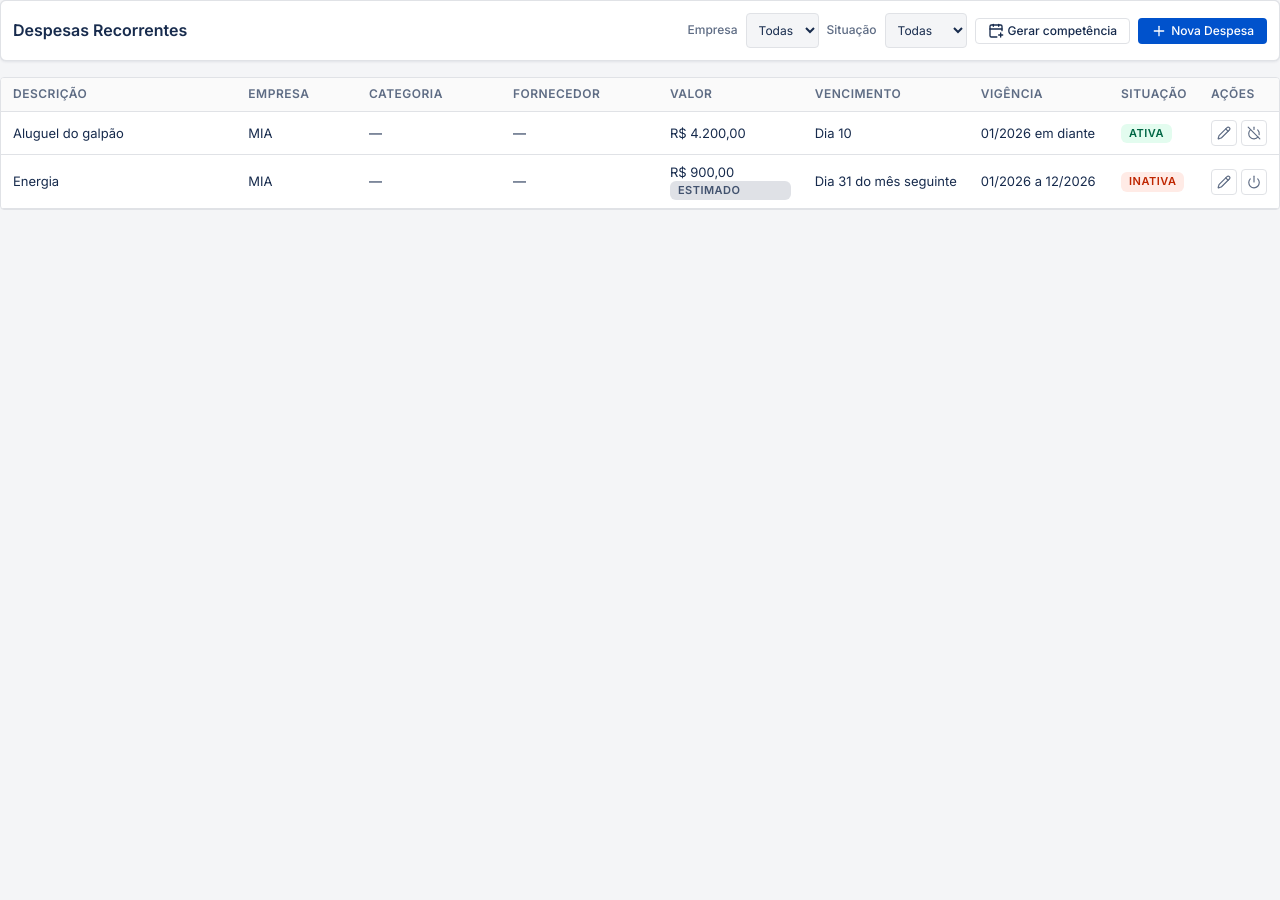
Test: DespesasRecorrentes › gera a competência escolhida e mostra geradas, já existentes e recusadas
The width and height of the screenshot is (1280, 900).
expect the text "Aluguel do galpão" is shown: met, box [1, 111, 236, 154]
Click the button "Gerar competência" at (1052, 30), box [975, 18, 1130, 44]
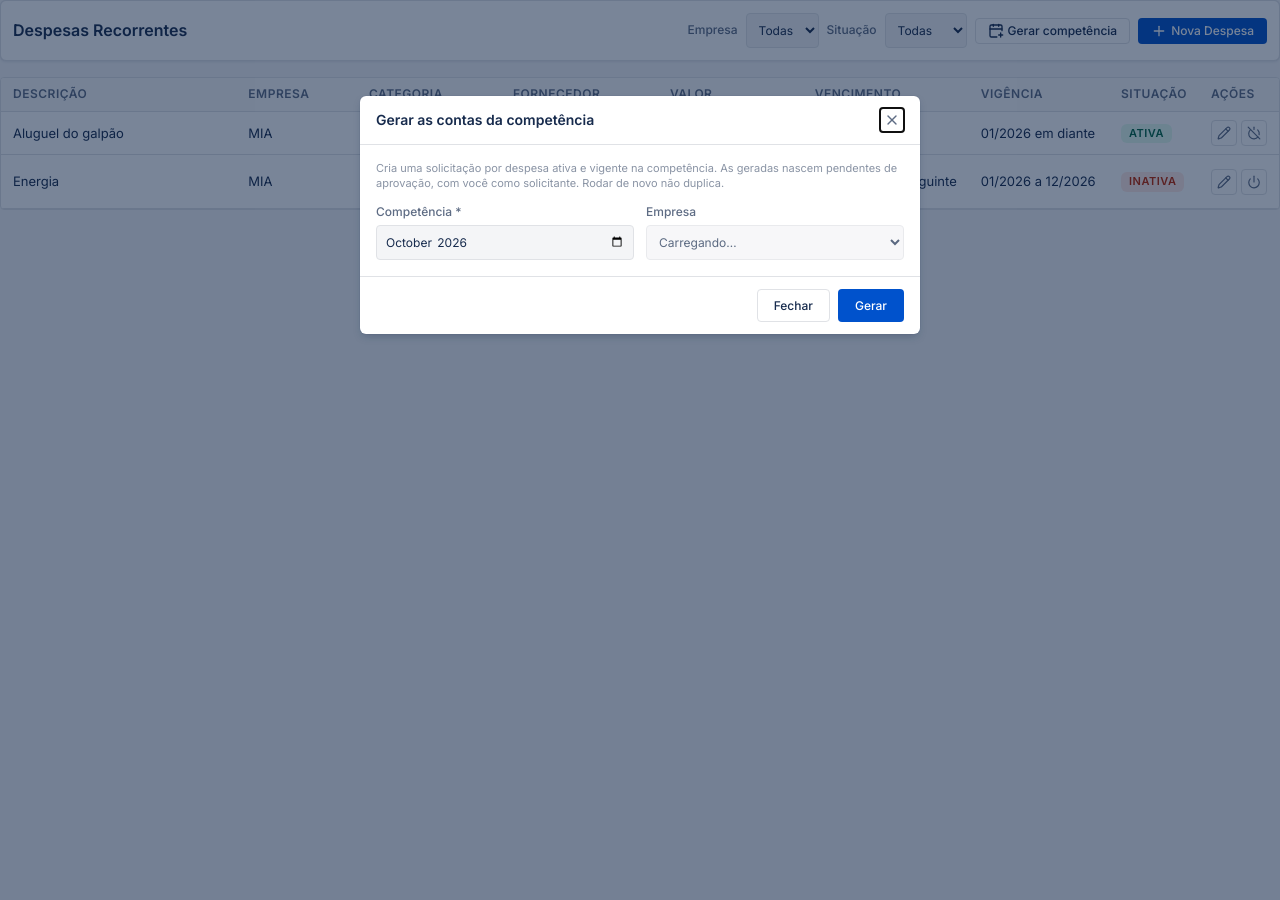
expect the field labelled "Competência *" holds "2026-10": met
Replace the text in the field labelled "Competência *" with "2026-11" at (505, 242), box [376, 225, 634, 260]
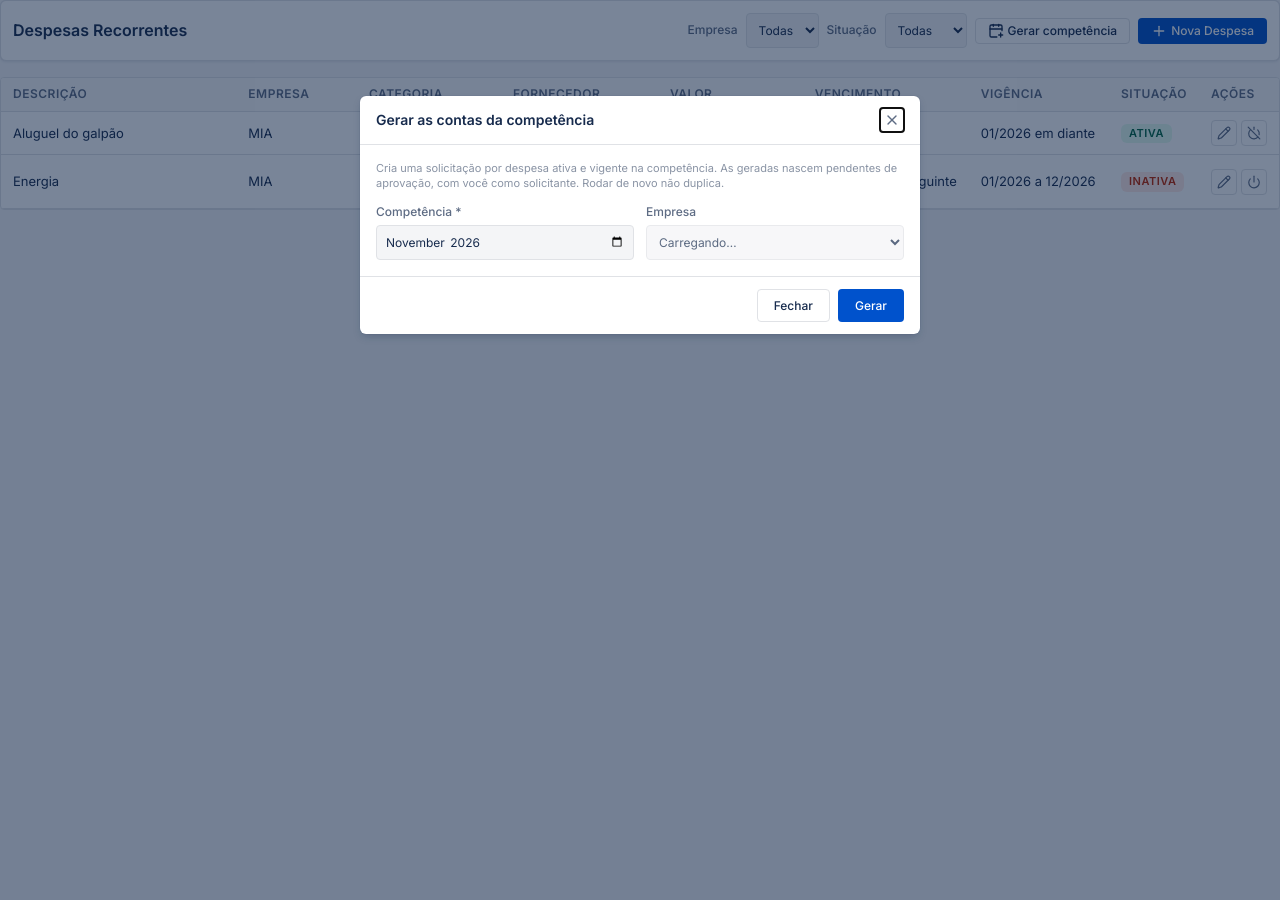
Click the button "Gerar" at (871, 305), box [838, 289, 904, 322]
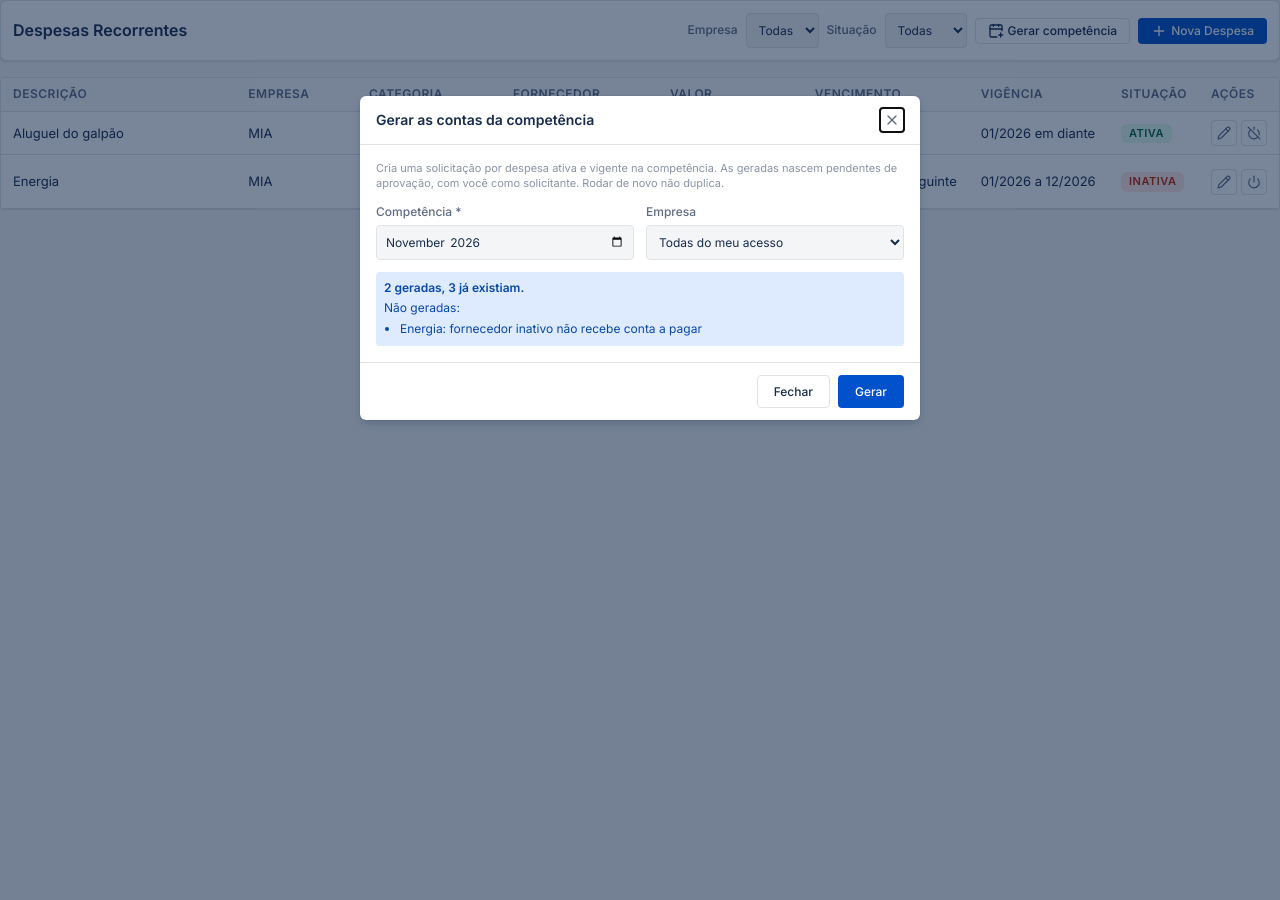
expect the text "nascem pendentes de aprovação" is shown: met, box [376, 161, 897, 190]
expect the text "2 geradas, 3 já existiam." is shown: met, box [384, 280, 524, 295]
expect the list item "Energia: fornecedor inativo não recebe conta a pagar" is shown: met, box [400, 321, 702, 336]
